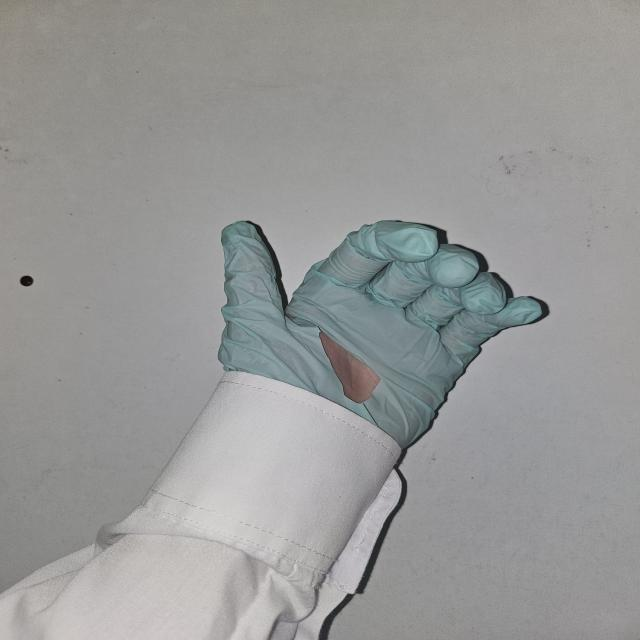gloves_damaged: (213, 218, 556, 448)
